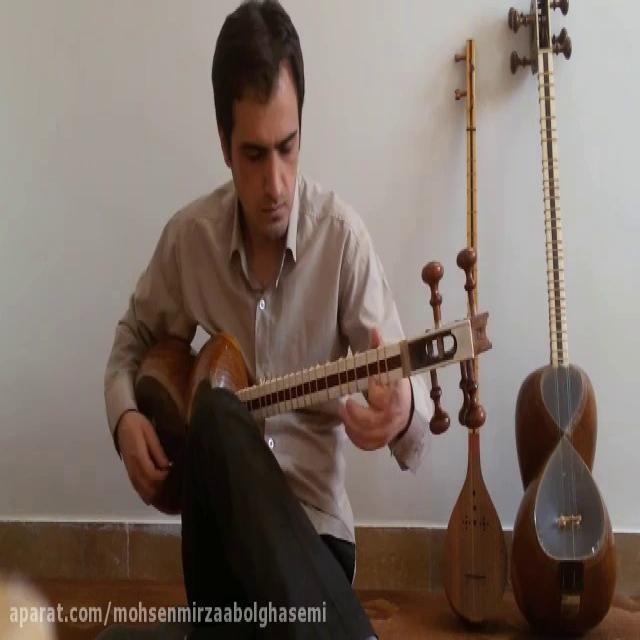Setar: (114, 238, 500, 527), (508, 0, 620, 636), (449, 35, 509, 632)
